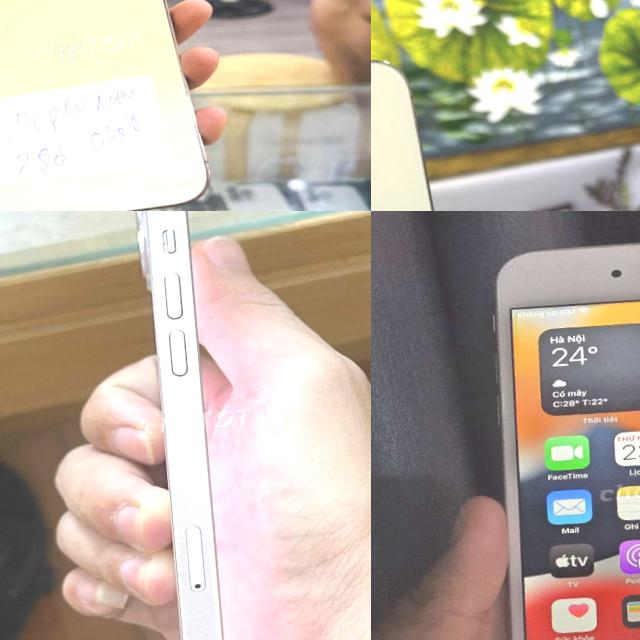scratch: (166, 435, 211, 640)
